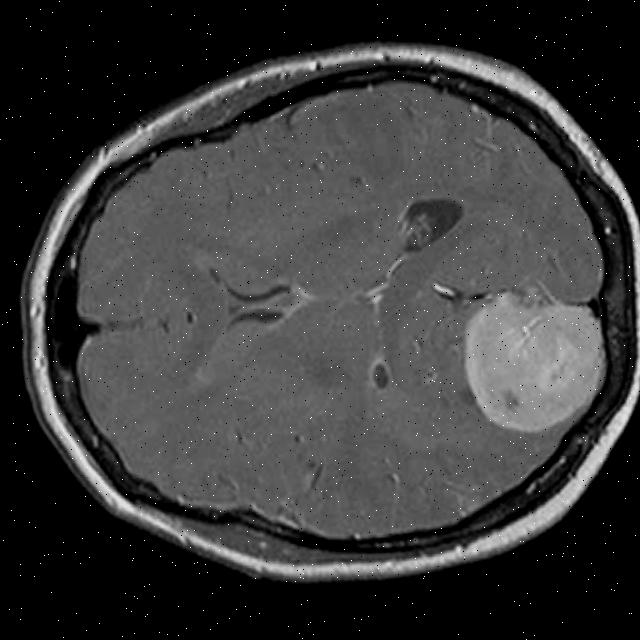Meningioma: (460, 286, 612, 437)
